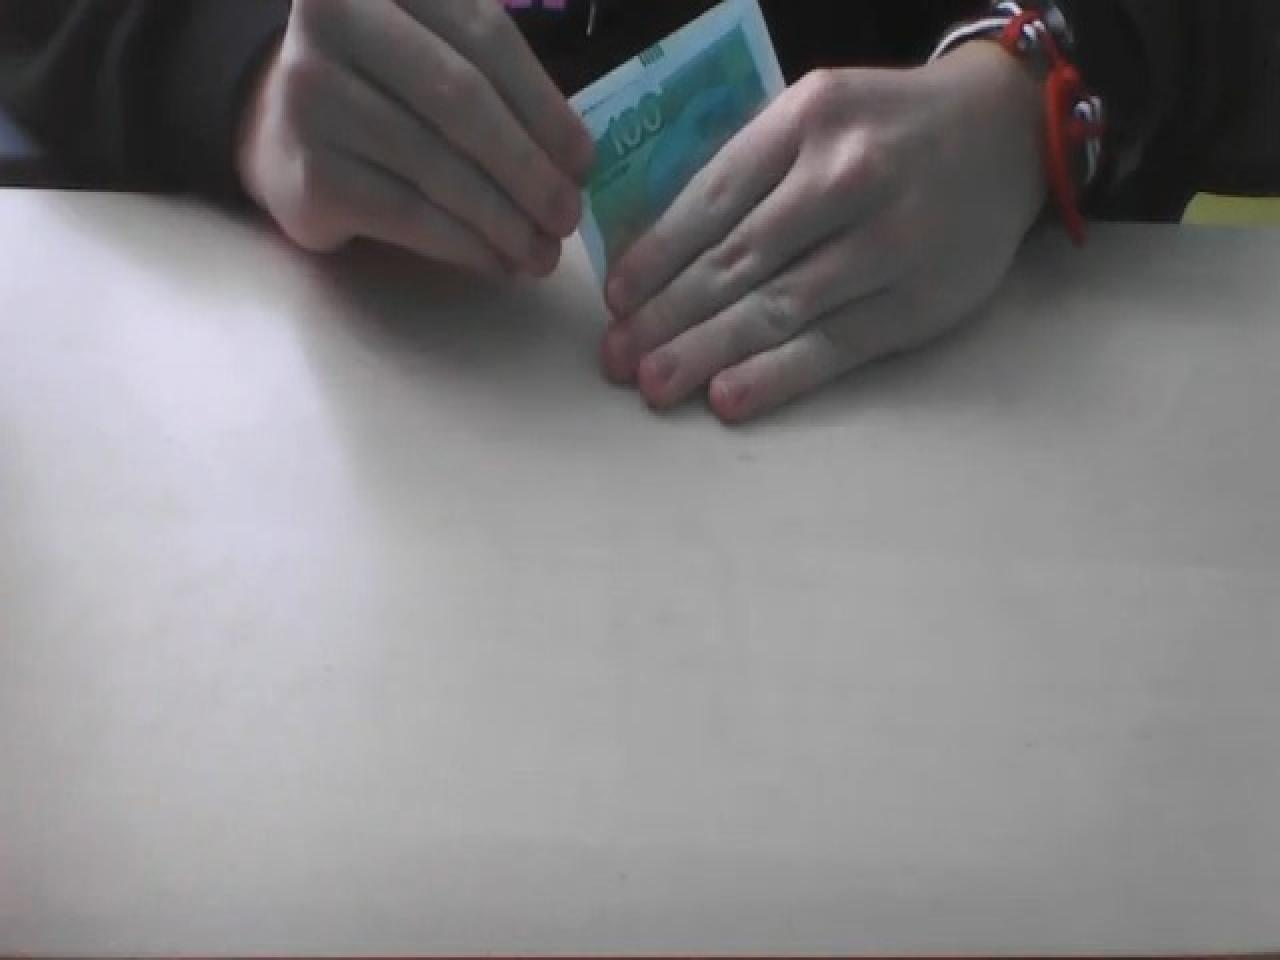100leva: (530, 0, 788, 266)
